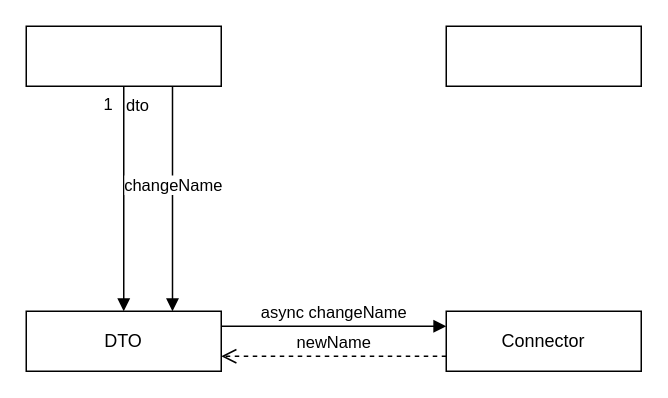
The diagram is 668 pixels wide and 398 high, and some of its shapes have lost their labels. Here are the shapes that lost their labels. From the top down, the centre of each, then its label:
At pixel 123 55: "Record".
At pixel 543 55: "Factory".
